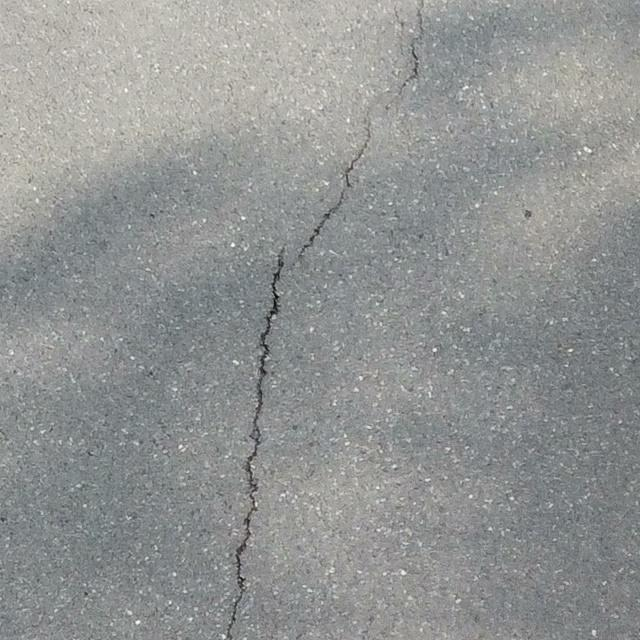LongitudinalCrack: (228, 122, 372, 640), (398, 1, 424, 96)
